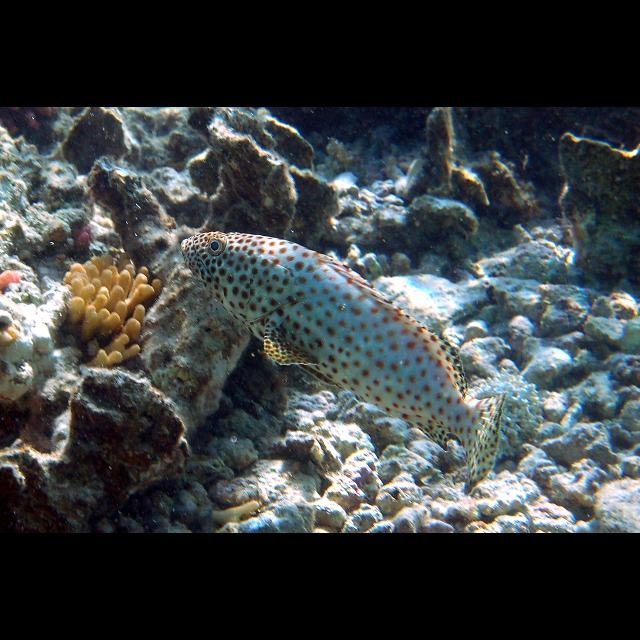Groupers: (180, 230, 508, 480)
